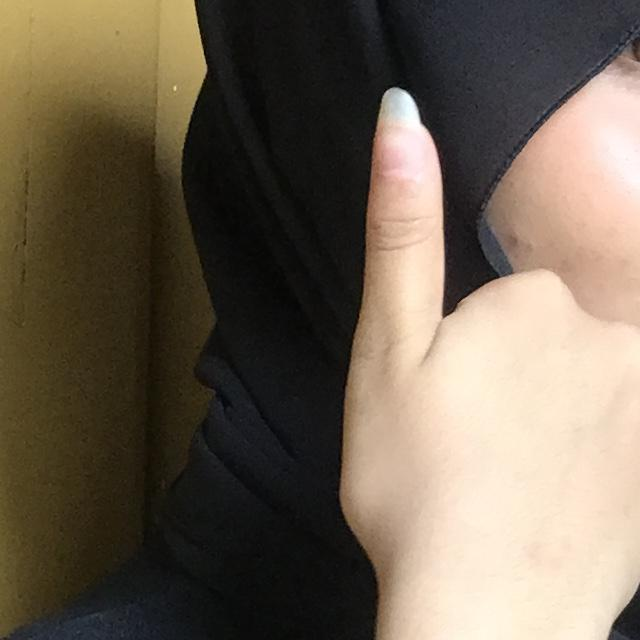telpon: (260, 66, 640, 640)
